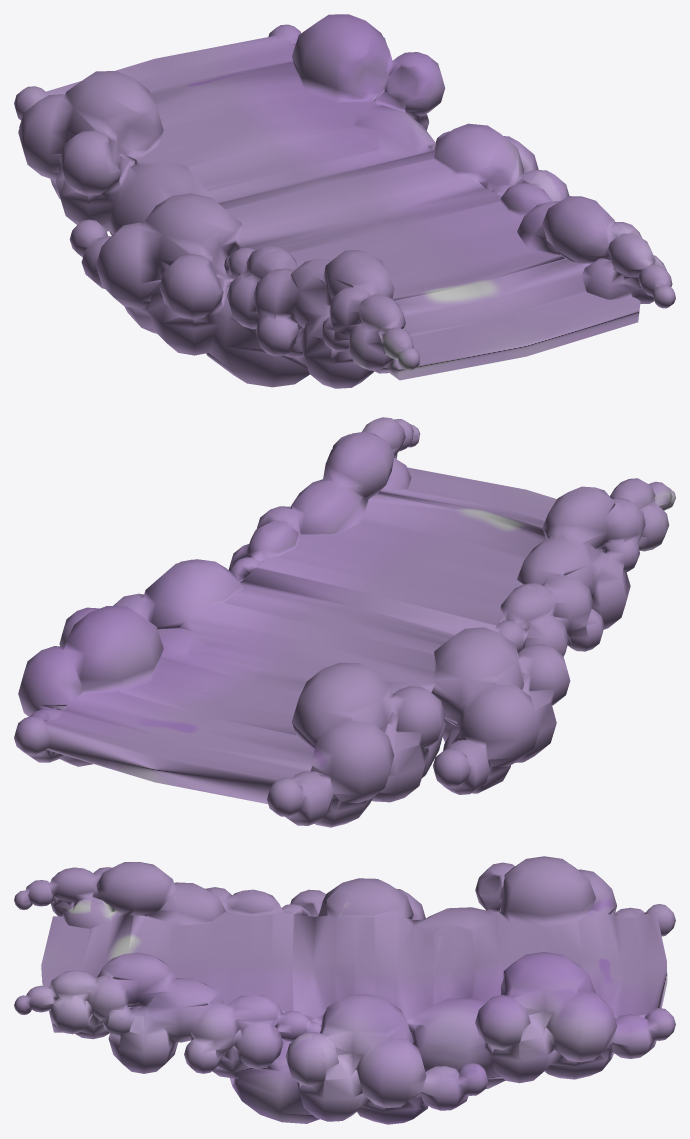
Rendered from nubetexturas.fbx.
3 views of the same model, one above another, from view 1: azimuth 30°, elevation 25°; view 2: azimuth 150°, elevation 25°; view 3: azimuth 270°, elevation 25° (orthographic). The views are drawn at different scales.
Parts seen in each view (by area): view 1: Cube.002; view 2: Cube.002; view 3: Cube.002.
Part boxes in pixels (bbox=[...]): Cube.002: bbox=[14, 14, 675, 388]; Cube.002: bbox=[14, 417, 675, 827]; Cube.002: bbox=[14, 856, 675, 1124].
Bounding box in the file's own units: 2848 × 1229 × 4497.
1 material, 1 textured.
